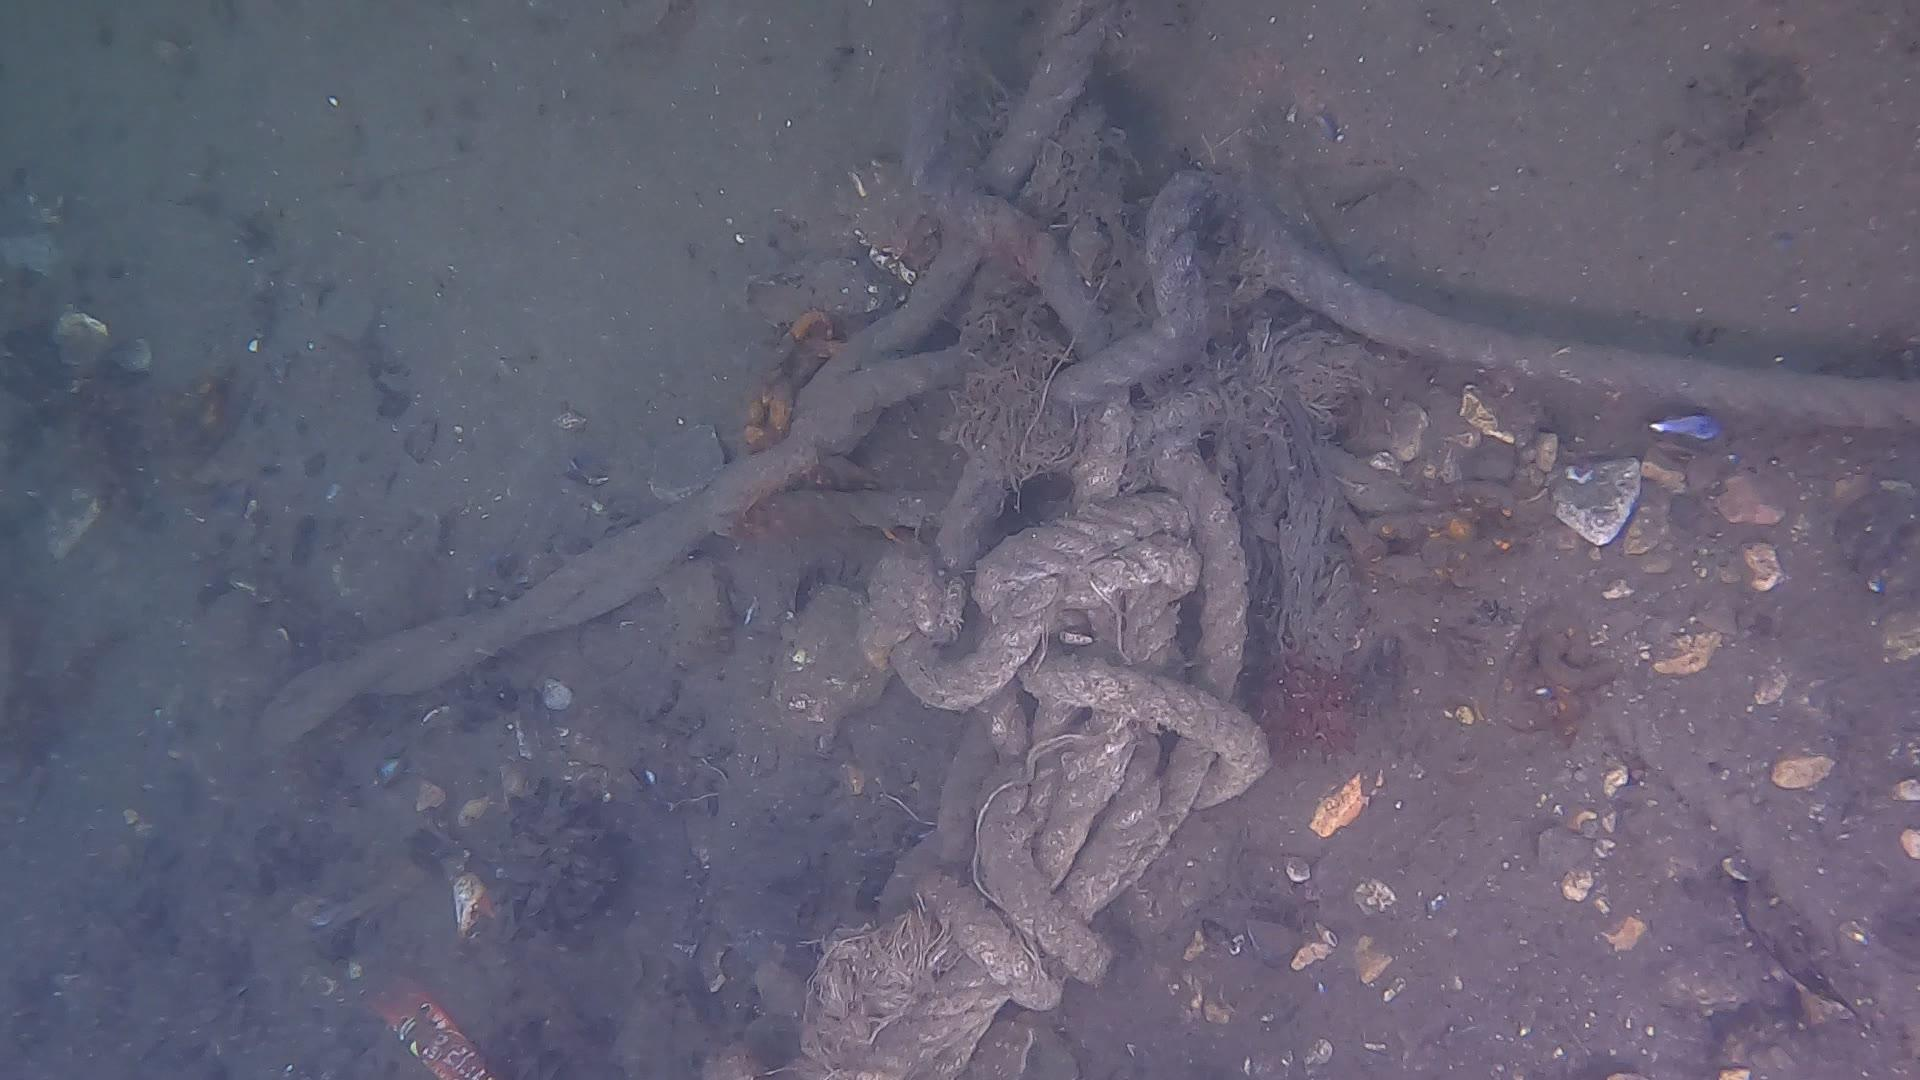bundle of ropes: (243, 3, 1920, 1080)
